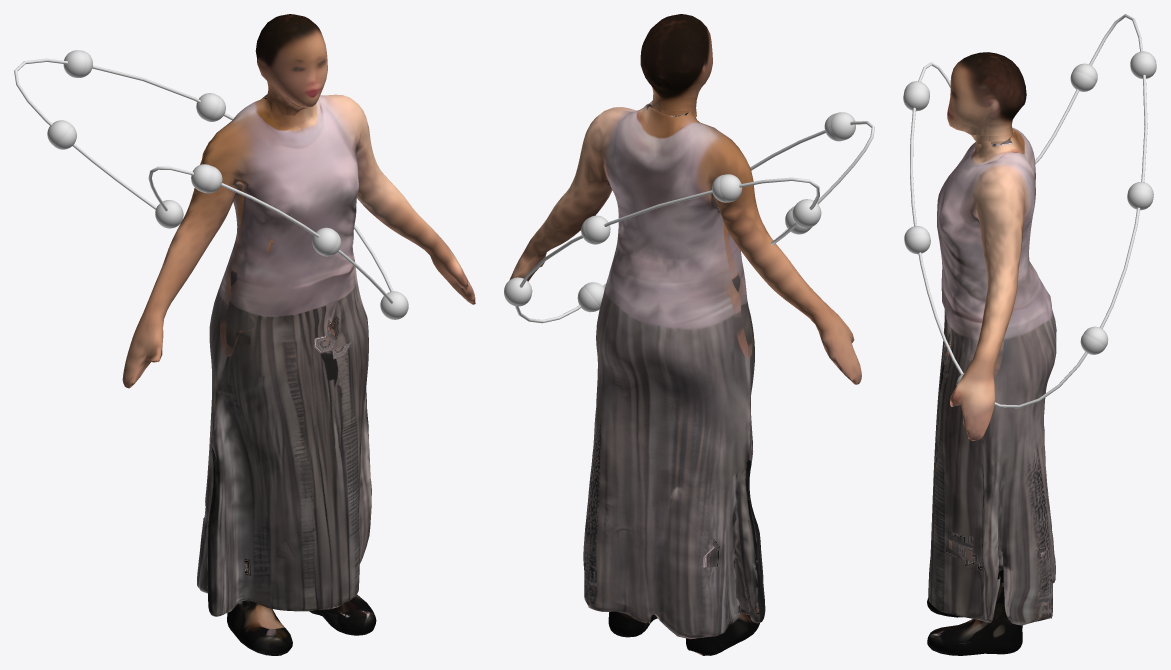
The picture shows the model from 3 angles, left to right: view 1: azimuth 30°, elevation 25°; view 2: azimuth 150°, elevation 25°; view 3: azimuth 270°, elevation 25°; orthographic projection. The views are drawn at different scales.
Visible parts, largest first — view 1: Me, icons.005, String; view 2: Me, icons.005, String; view 3: Me, icons.005, String.
Boxes of the visible parts, x1,y1,x2,y2 form: Me: (122,14,475,655); icons.005: (47,50,408,319); String: (14,58,393,303); Me: (509,14,861,655); icons.005: (504,112,855,312); String: (515,121,874,323); Me: (927,52,1056,655); icons.005: (903,51,1156,385); String: (910,14,1147,408).
Bounding box in the file's own units: 1.25 × 1.9 × 0.7571.
Materials: 1 (1 with a texture image).
